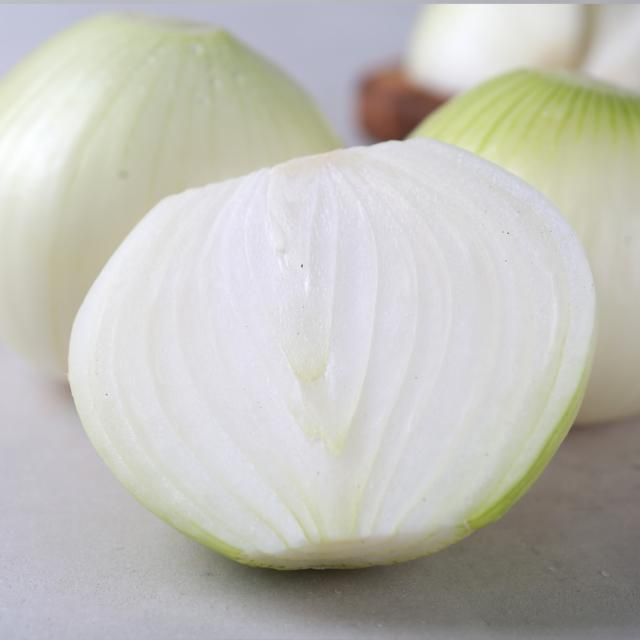onion: (0, 6, 640, 578), (60, 135, 599, 575)
